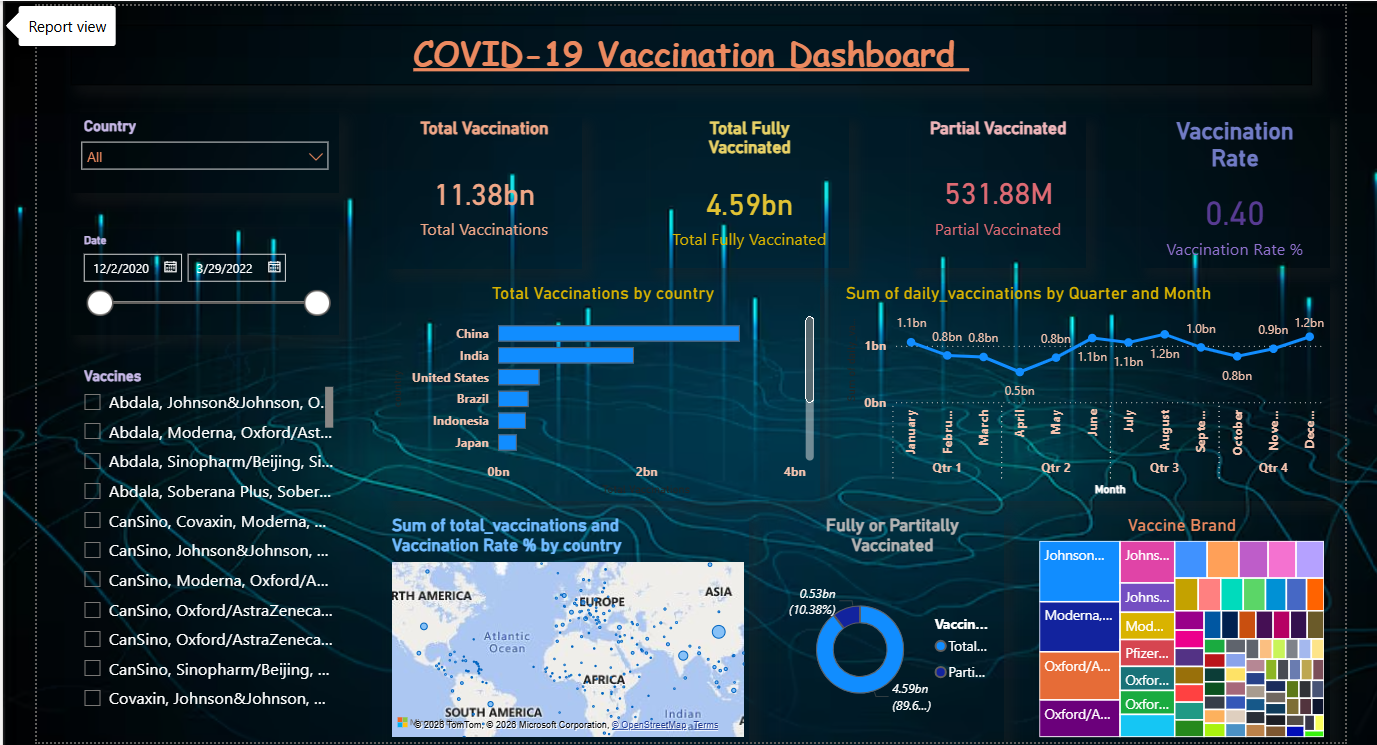

The dashboard page shown, as its layout file describes it:
{"tool":"powerbi","page":{"name":"COVID-19 Vaccination Dashboard ","canvas":[1280,720],"ordinal":0},"visuals":[{"type":"card","title":"Total Vaccination","fields":{"Values":["country_vaccinations.Total Vaccinations"]},"box":[342.4,108.8,190.8,148],"z":0},{"type":"card","title":"Partial Vaccinated","fields":{"Values":["country_vaccinations.Partial Vaccinated"]},"box":[854.8,109.3,171.2,147.5],"z":1000},{"type":"card","title":"Total Fully Vaccinated","fields":{"Values":["country_vaccinations.Total Fully Vaccinated"]},"box":[600.6,109.3,193.6,147.5],"z":2000},{"type":"card","title":"Vaccination Rate","fields":{"Values":["country_vaccinations.Vaccination Rate %"]},"box":[1080.1,109.3,184.4,147.5],"z":3000},{"type":"barChart","fields":{"Category":["country_vaccinations.country"],"Y":["country_vaccinations.Total Vaccinations"]},"box":[342.5,270,422.8,213.4],"z":4000},{"type":"lineChart","fields":{"Y":["Sum(country_vaccinations.daily_vaccinations)"],"Category":["country_vaccinations.date.Variation.Date Hierarchy.Quarter","country_vaccinations.date.Variation.Date Hierarchy.Month"]},"box":[786.3,270,478.1,213.4],"z":5000},{"type":"map","fields":{"Category":["country_vaccinations.country"],"Size":["Sum(country_vaccinations.total_vaccinations)"]},"box":[342.5,497.9,354.3,222.6],"z":6000},{"type":"donutChart","title":"Fully or Partitally Vaccinated","fields":{"Y":["country_vaccinations.Total Fully Vaccinated","country_vaccinations.Partial Vaccinated"]},"box":[727.1,497.9,218.6,222.6],"z":7000},{"type":"treemap","title":"Vaccine Brand","fields":{"Group":["country_vaccinations.vaccines"],"Values":["CountNonNull(country_vaccinations.iso_code)"]},"box":[976,497.9,288.5,222.6],"z":8000},{"type":"slicer","fields":{"Values":["country_vaccinations.country"]},"box":[32.9,104.1,262.1,79],"z":9000},{"type":"slicer","fields":{"Values":["country_vaccinations.date"]},"box":[32.9,217.3,262.1,104.1],"z":10000},{"type":"slicer","fields":{"Values":["country_vaccinations.vaccines"]},"box":[32.9,349,262.1,342.5],"z":11000},{"type":"textbox","box":[32.9,18.4,1214.4,59.3],"z":12000}]}

Visuals, with their boxes on the page's 1280x720 design canvas (x1, y1, x2, y2). These are canvas units, not pixel positions in the 1377x745 screenshot, which may show the page scaled, cropped or inside an application window:
"Total Vaccination" card: [left=342, top=109, right=533, bottom=257]
"Partial Vaccinated" card: [left=855, top=109, right=1026, bottom=257]
"Total Fully Vaccinated" card: [left=601, top=109, right=794, bottom=257]
"Vaccination Rate" card: [left=1080, top=109, right=1264, bottom=257]
barChart - country_vaccinations.country x country_vaccinations.Total Vaccinations: [left=342, top=270, right=765, bottom=483]
lineChart - Sum(country_vaccinations.daily_vaccinations) x country_vaccinations.date.Variation.Date Hierarchy.Quarter: [left=786, top=270, right=1264, bottom=483]
map - country_vaccinations.country x Sum(country_vaccinations.total_vaccinations): [left=342, top=498, right=697, bottom=720]
"Fully or Partitally Vaccinated" donutChart: [left=727, top=498, right=946, bottom=720]
"Vaccine Brand" treemap: [left=976, top=498, right=1264, bottom=720]
slicer - country_vaccinations.country: [left=33, top=104, right=295, bottom=183]
slicer - country_vaccinations.date: [left=33, top=217, right=295, bottom=321]
slicer - country_vaccinations.vaccines: [left=33, top=349, right=295, bottom=692]
textbox: [left=33, top=18, right=1247, bottom=78]
